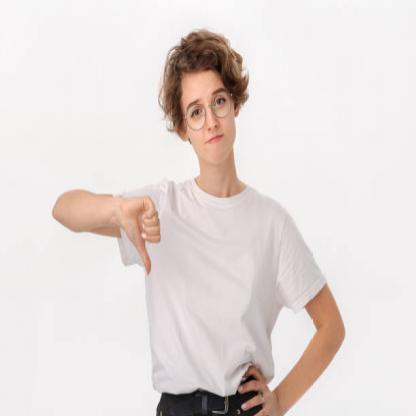thumb_down: (121, 192, 164, 278)
